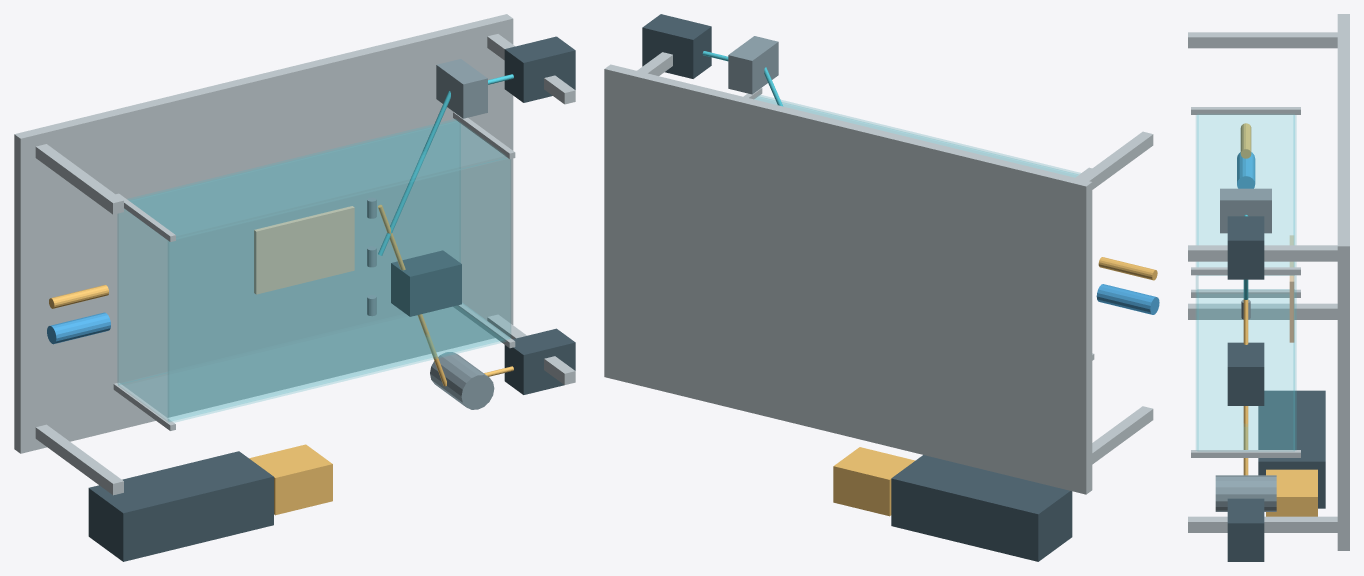
File: MIST-SENSOR-BIAS-rig.glb
The picture shows the model from 3 angles, left to right: view 1: azimuth 30°, elevation 25°; view 2: azimuth 150°, elevation 25°; view 3: azimuth 270°, elevation 25°; orthographic projection. The views are drawn at different scales.
Parts seen in each view (by area): view 1: frame, wall, dark, sample, gas, demister, water, guarded; view 2: frame, dark, gas, demister, wall, water; view 3: wall, frame, dark, demister, gas, water, sample.
Boxes of the visible parts, left/top/right/bottom form: frame: left=14, top=14, right=575, bottom=495; wall: left=117, top=119, right=510, bottom=422; dark: left=88, top=36, right=575, bottom=561; sample: left=254, top=206, right=354, bottom=294; gas: left=49, top=204, right=513, bottom=515; demister: left=367, top=59, right=494, bottom=409; water: left=47, top=312, right=110, bottom=344; guarded: left=378, top=74, right=513, bottom=255; frame: left=604, top=52, right=1153, bottom=494; dark: left=642, top=14, right=1072, bottom=561; gas: left=833, top=257, right=1157, bottom=516; demister: left=728, top=36, right=778, bottom=94; wall: left=754, top=95, right=1080, bottom=177; water: left=1096, top=284, right=1159, bottom=314; wall: left=1196, top=115, right=1296, bottom=450; frame: left=1188, top=14, right=1349, bottom=550; dark: left=1227, top=216, right=1325, bottom=561; demister: left=1215, top=188, right=1276, bottom=511; gas: left=1240, top=123, right=1317, bottom=516; water: left=1237, top=152, right=1255, bottom=188; sample: left=1289, top=235, right=1294, bottom=342.
Size of the model in its own units: 0.376 by 0.2945 by 0.106.
